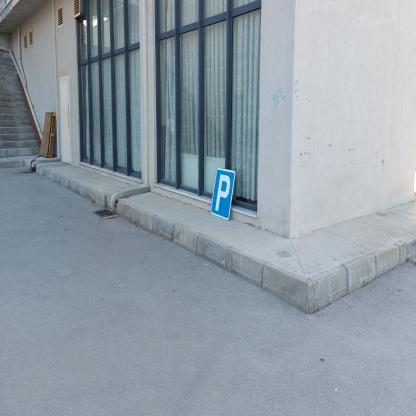parking: (210, 167, 235, 220)
